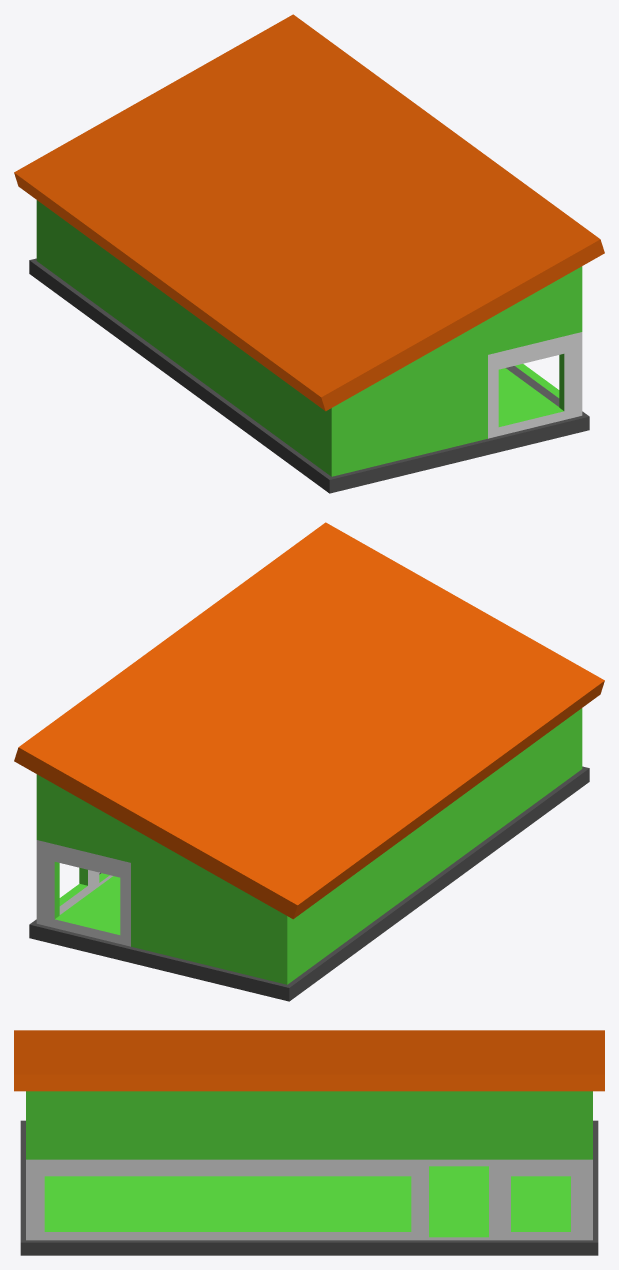
File: seveneleven.fbx
The picture shows the model from 3 angles, top to bottom: view 1: azimuth 30°, elevation 25°; view 2: azimuth 150°, elevation 25°; view 3: azimuth 270°, elevation 25°; orthographic projection. The views are drawn at different scales.
Visible parts, largest first — view 1: Roof, Base; view 2: Roof, Base; view 3: Base, Roof.
Part boxes in pixels (left/top/right/bottom): Roof: left=14, top=14, right=604, bottom=411; Base: left=29, top=200, right=589, bottom=493; Roof: left=14, top=522, right=604, bottom=919; Base: left=29, top=708, right=589, bottom=1001; Base: left=20, top=1091, right=598, bottom=1255; Roof: left=14, top=1030, right=604, bottom=1091.
Bounding box in the file's own units: 4093 × 2182 × 1408.
